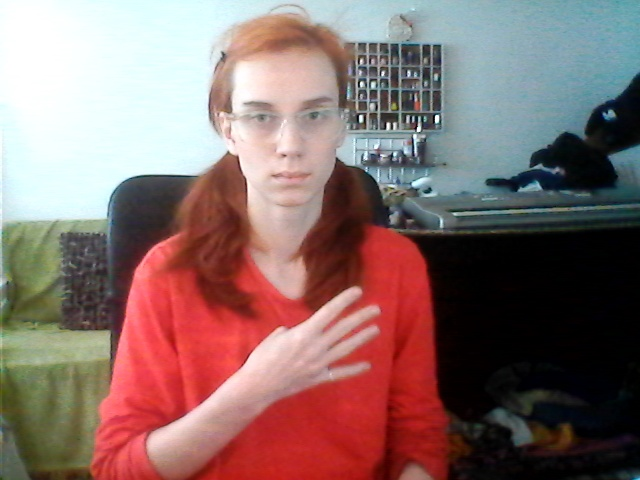styri: (261, 284, 385, 395)
